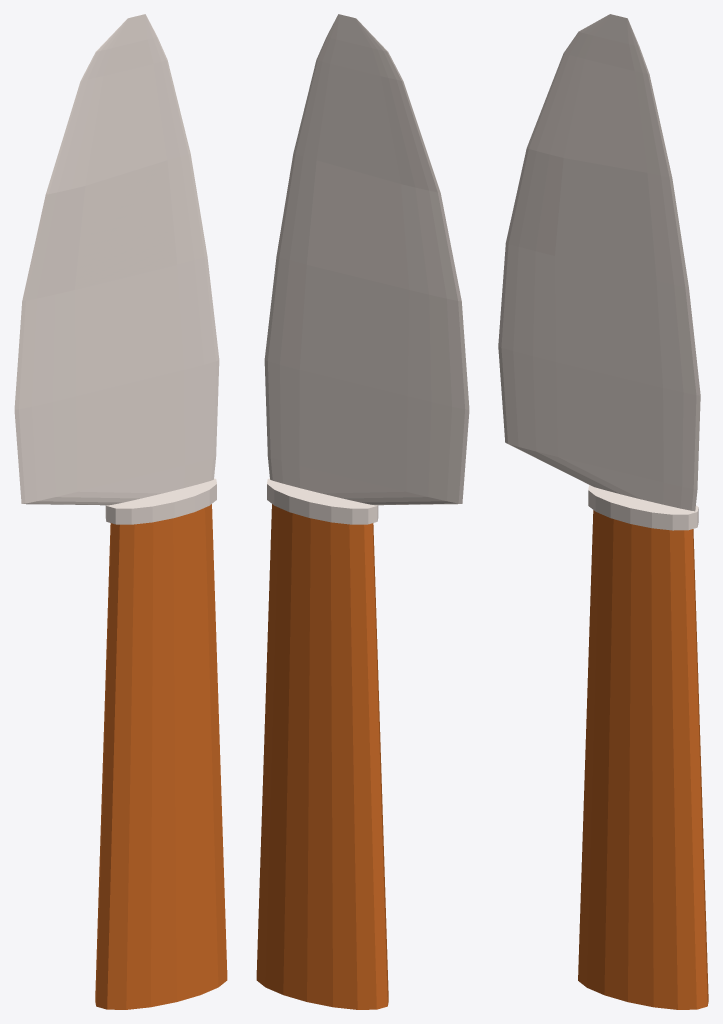
File: Knife.fbx
3 views of the same model, side by side, from view 1: azimuth 30°, elevation 25°; view 2: azimuth 150°, elevation 25°; view 3: azimuth 330°, elevation 25° (orthographic).
Visible parts, largest first — view 1: Cylinder; view 2: Cylinder; view 3: Cylinder.
Part boxes in pixels (x1,y1,x2,y2): Cylinder: [14, 14, 227, 1009]; Cylinder: [256, 14, 469, 1009]; Cylinder: [498, 14, 708, 1009].
Size of the model in its own units: 17.19 by 75.97 by 4.4.
